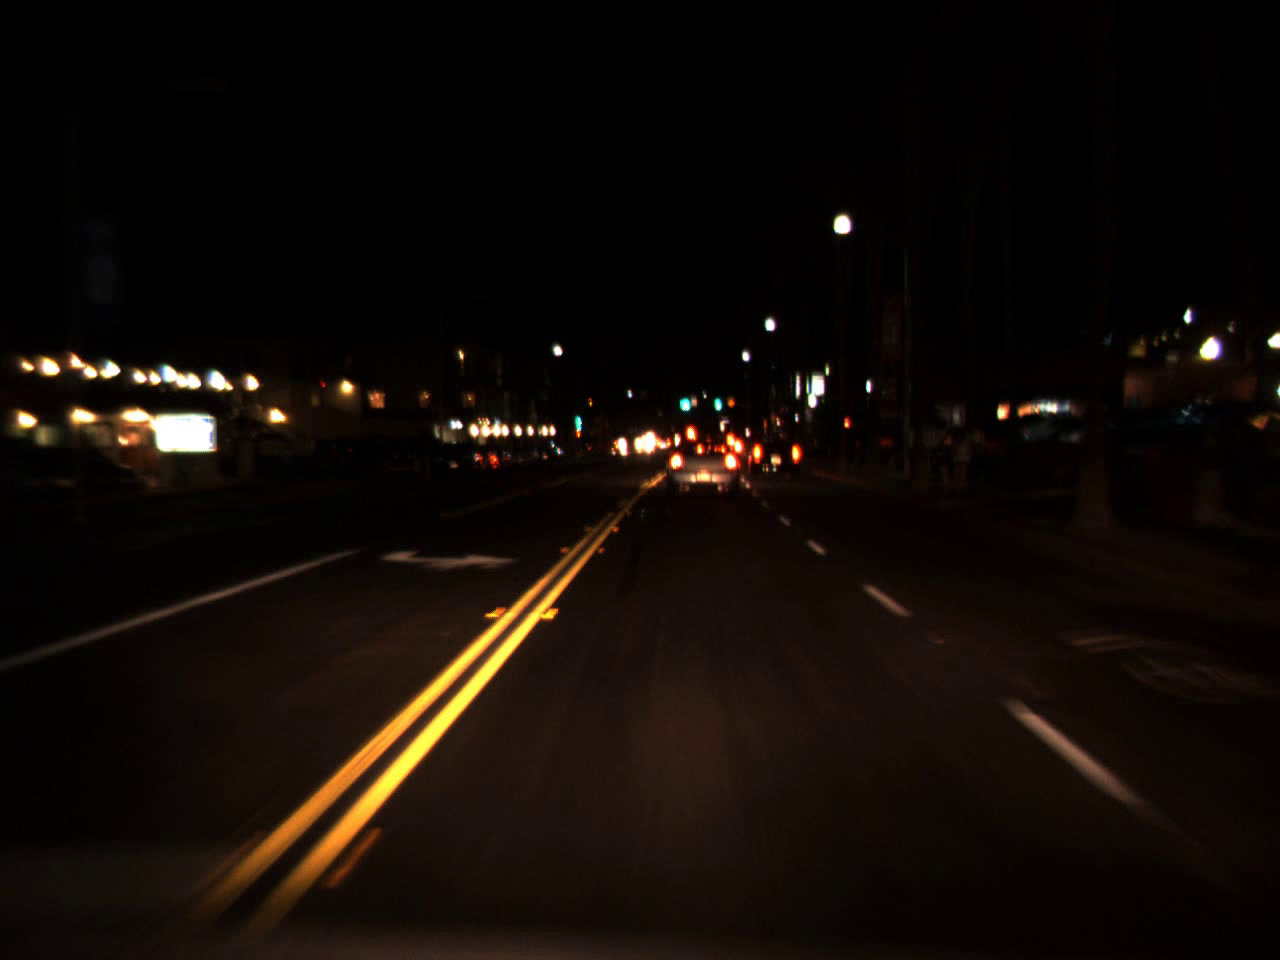go: (675, 384, 693, 414), (713, 388, 722, 409), (573, 405, 580, 429)
